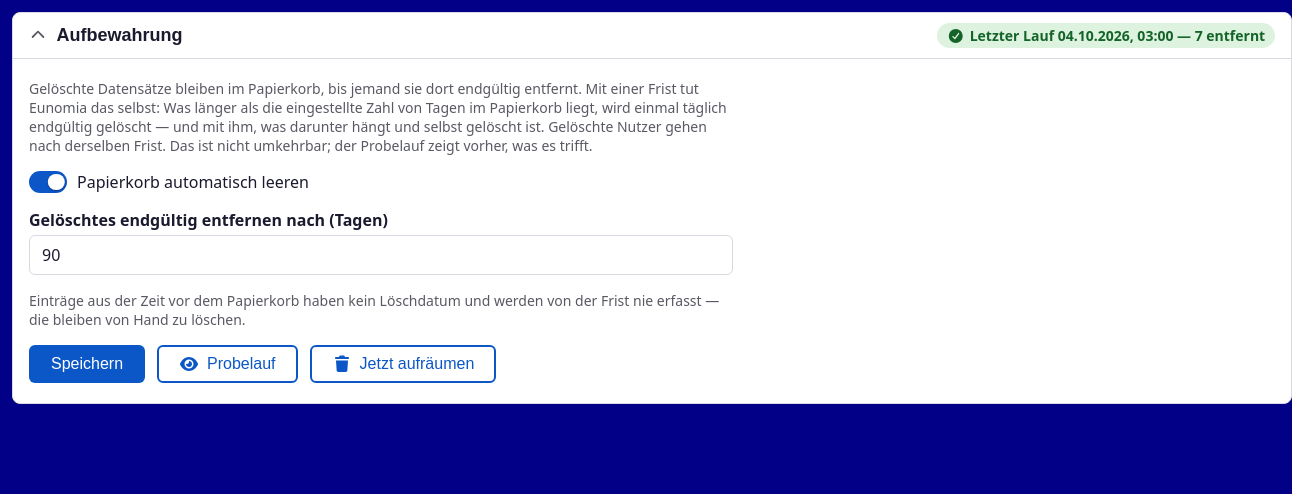
RetentionSection › counts a kind that nothing could be removed from as what stays
Click the button "Jetzt aufräumen" at (403, 364), box [310, 345, 496, 383]
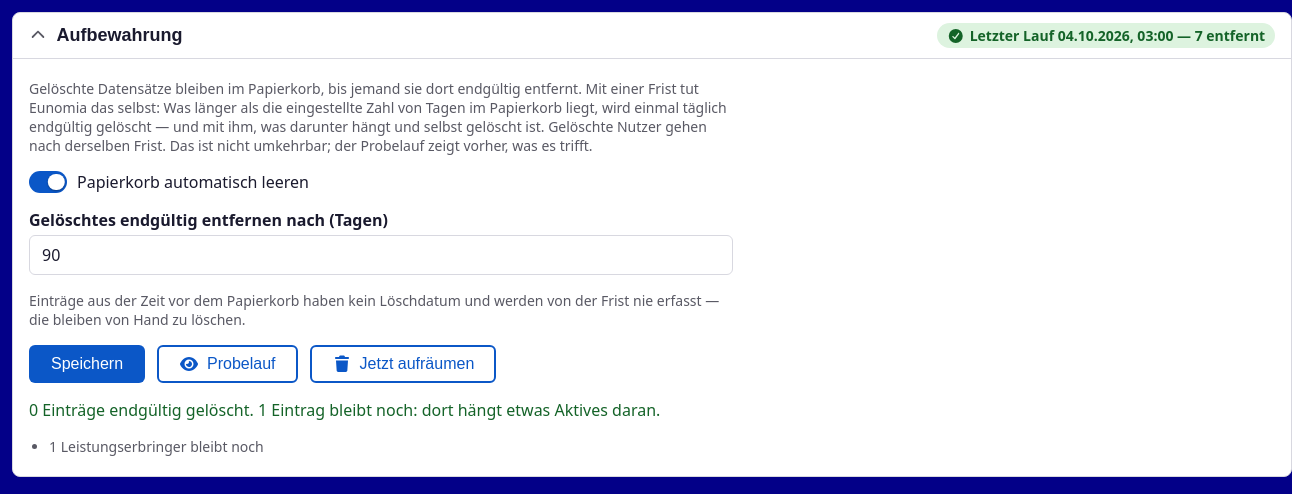
Now the text "1 Leistungserbringer bleibt noch" is shown, box [49, 437, 264, 456]
Now the text "0 Einträge endgültig gelöscht" is shown, box [29, 399, 660, 421]
